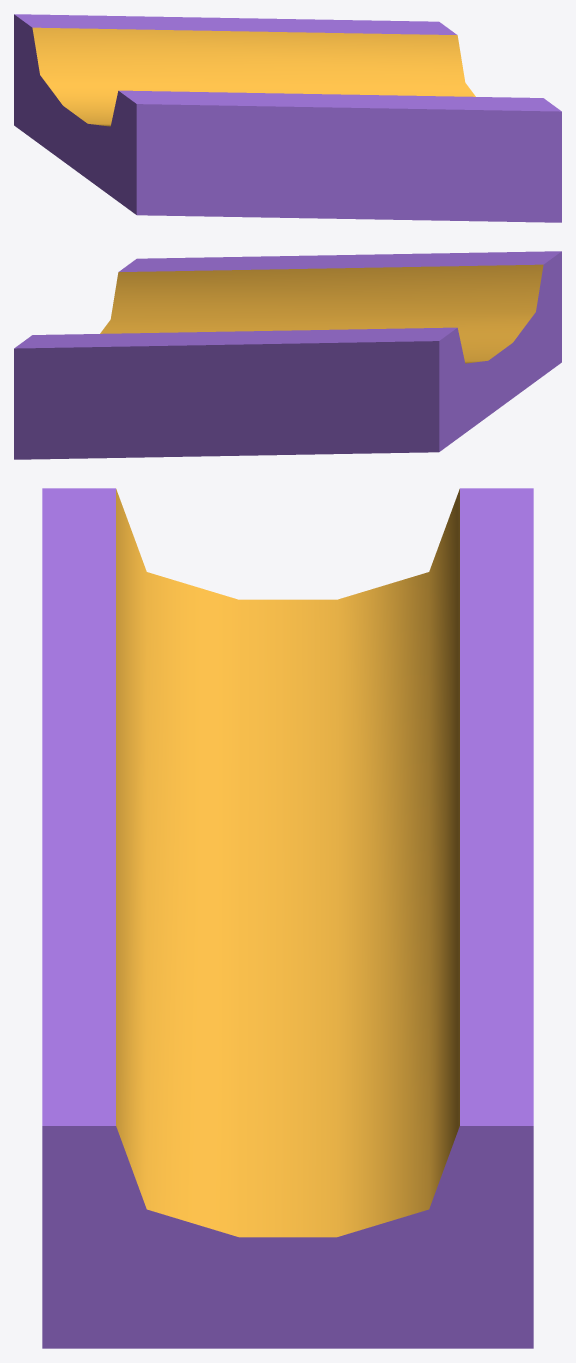
The model's file is slant-long-b-col.glb.
3 renders of one model, top to bottom at view 1: azimuth 30°, elevation 25°; view 2: azimuth 150°, elevation 25°; view 3: azimuth 270°, elevation 25°, orthographic. The views are drawn at different scales.
Parts seen in each view (by area): view 1: slant-long-b-col; view 2: slant-long-b-col; view 3: slant-long-b-col.
Boxes of the visible parts, x1,y1,x2,y2 form: slant-long-b-col: (14,14,561,222); slant-long-b-col: (14,251,561,459); slant-long-b-col: (42,488,533,1348).
Bounding box in the file's own units: 2 × 1 × 1.
Materials: 1 (1 with a texture image).
